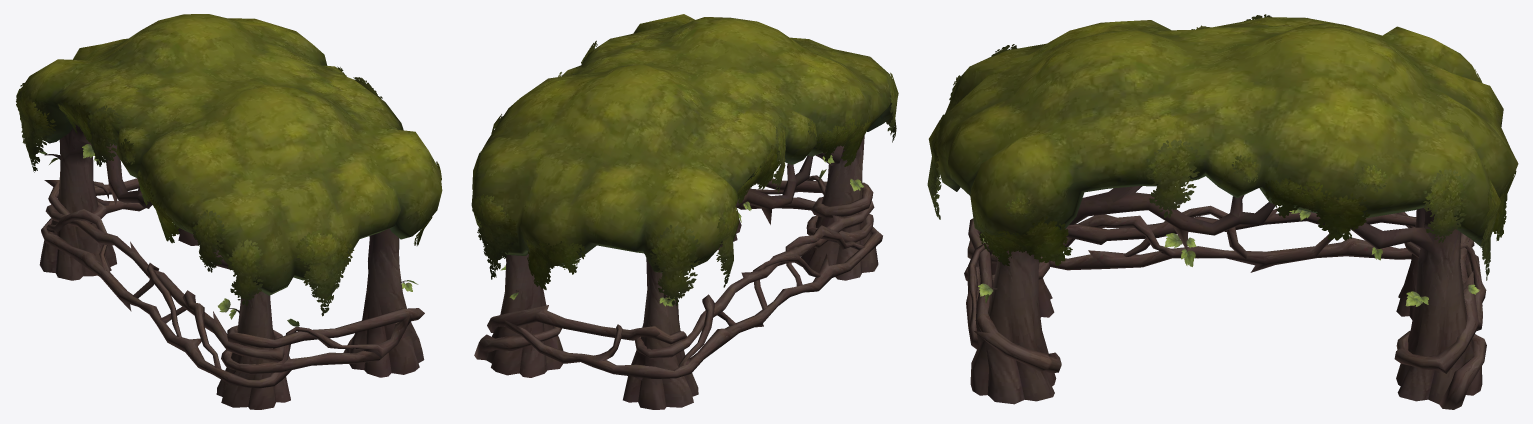
3 views of the same model, side by side, from view 1: azimuth 30°, elevation 25°; view 2: azimuth 150°, elevation 25°; view 3: azimuth 270°, elevation 25° (orthographic). The views are drawn at different scales.
Size of the model in its own units: 6.59 by 6.35 by 10.91.
3 materials, 3 textured.
